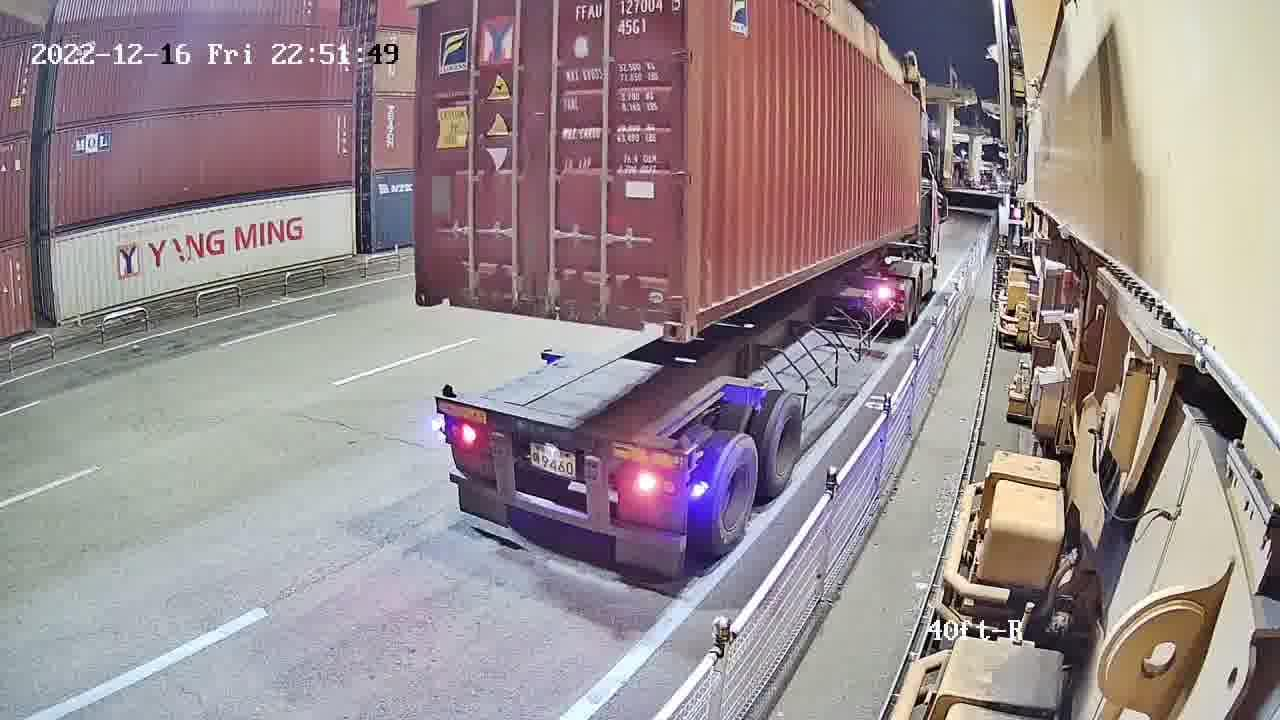Chassis: (438, 388, 694, 471)
Cone: (435, 384, 457, 413), (672, 432, 689, 469)
Hole_L: (683, 271, 719, 344), (413, 266, 457, 306)
Hole_R: (635, 287, 683, 342)
Tire: (714, 440, 761, 543), (765, 394, 803, 486)
